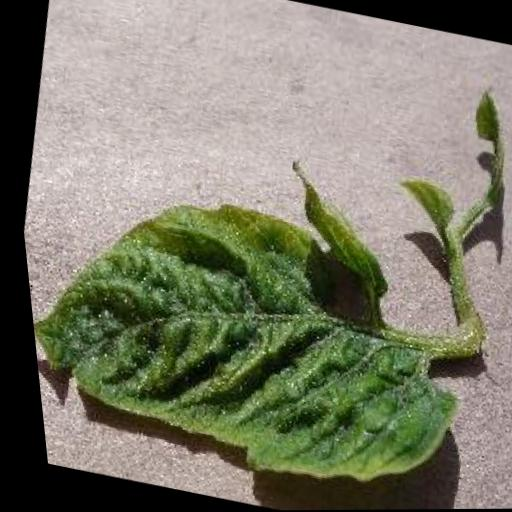Yellow Leaf Curl Virus: (12, 142, 487, 507)
